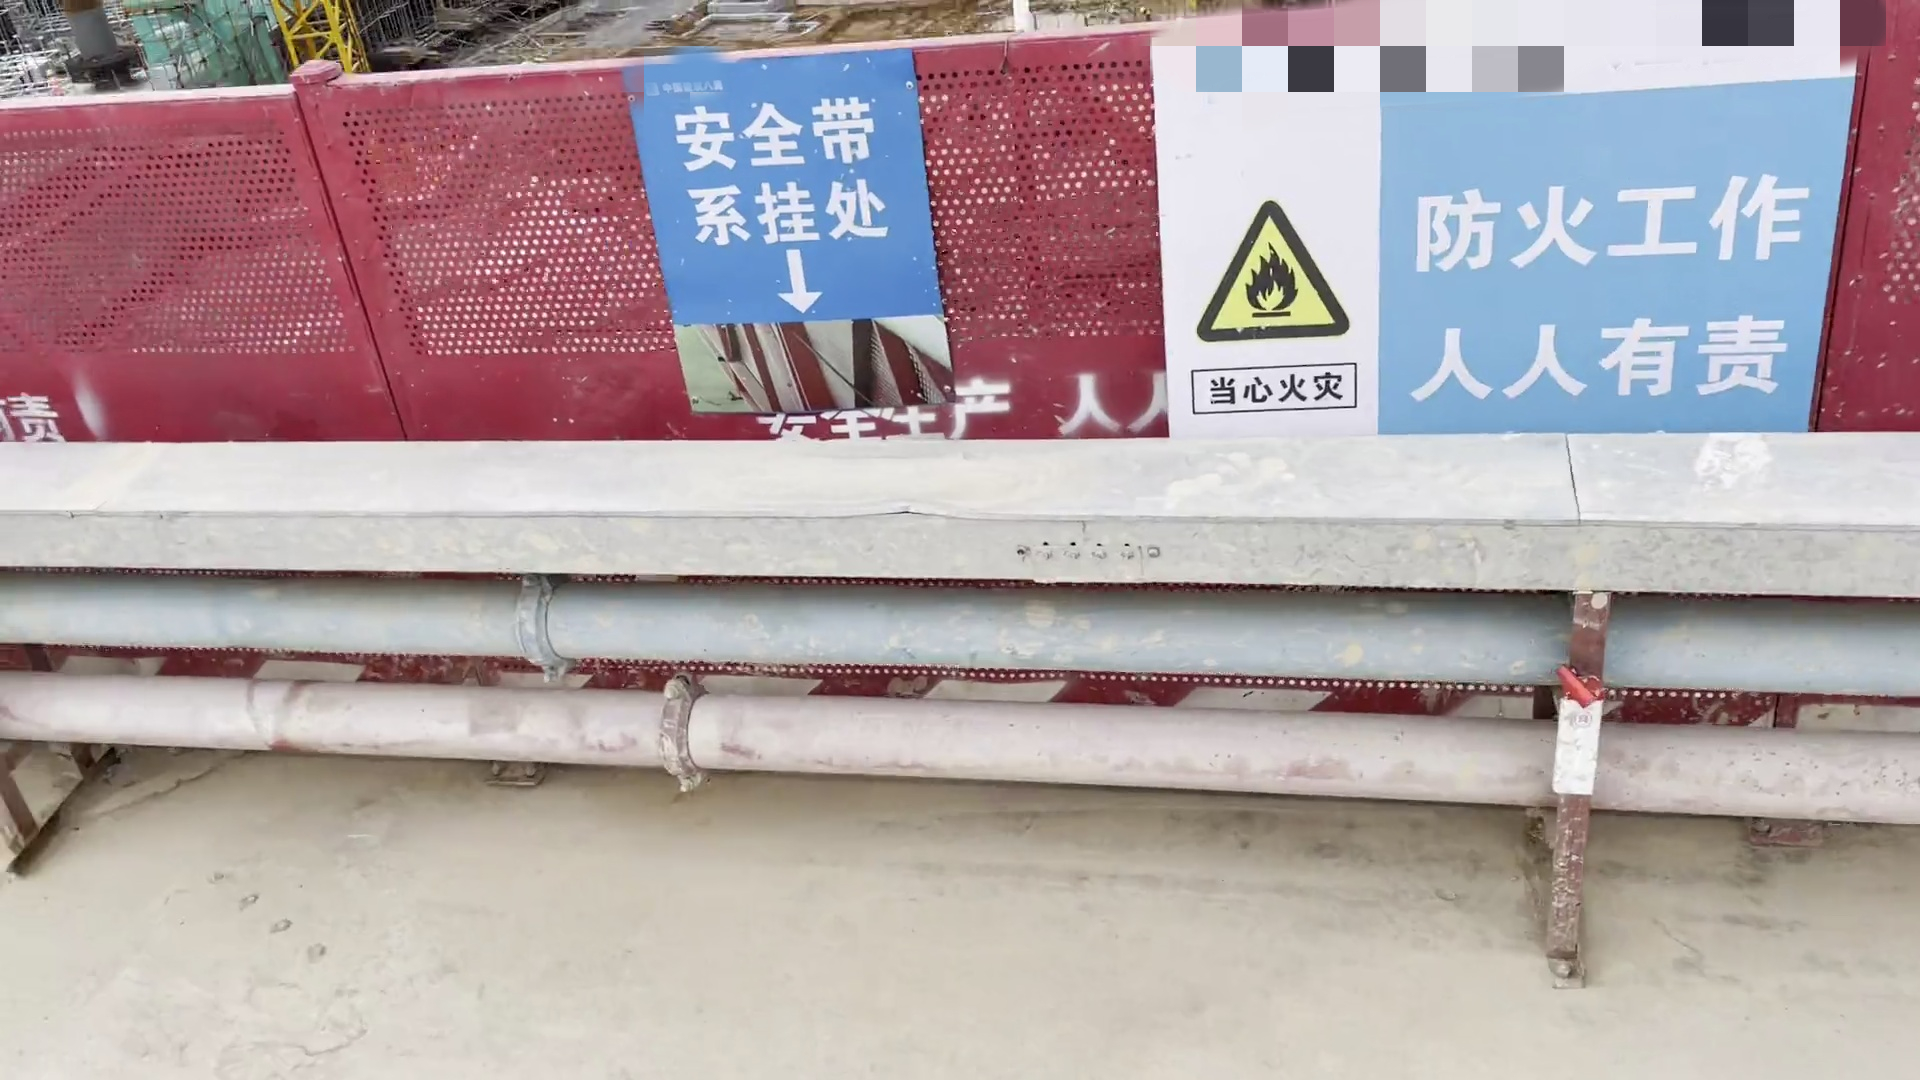brick: (704, 1, 794, 24)
fence: (798, 1, 1920, 465), (1, 47, 807, 462)
slogan: (1133, 4, 1883, 465), (582, 36, 977, 454)
